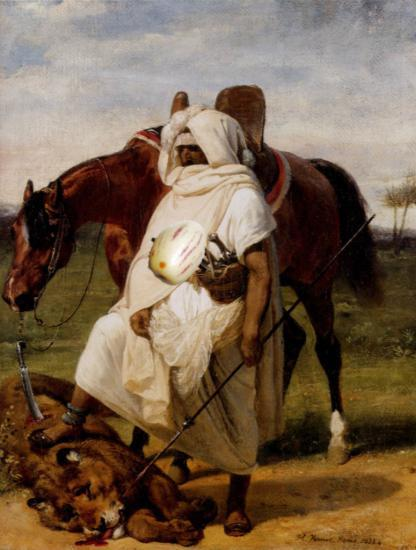Pepino: (141, 217, 212, 288)
